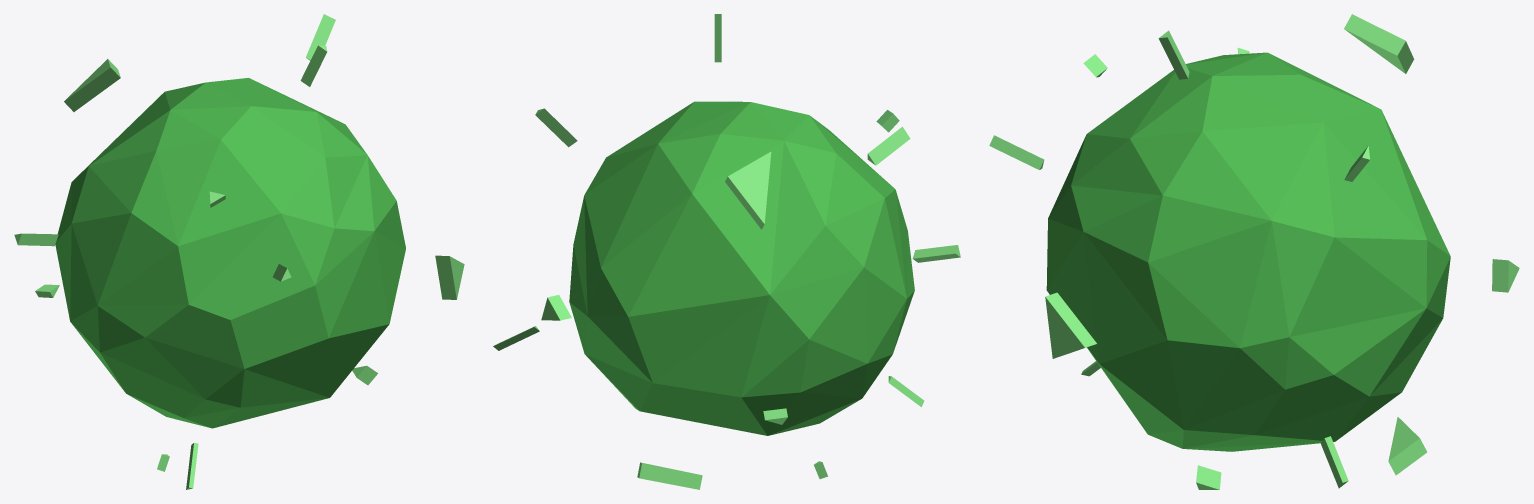
The model's file is Planet_02_a.fbx.
3 views of the same model, side by side, from view 1: azimuth 30°, elevation 25°; view 2: azimuth 150°, elevation 25°; view 3: azimuth 270°, elevation 25° (orthographic). The views are drawn at different scales.
Parts seen in each view (by area): view 1: Planet_02; view 2: Planet_02; view 3: Planet_02.
Boxes of the visible parts, x1,y1,x2,y2 form: Planet_02: [14, 14, 464, 489]; Planet_02: [493, 14, 960, 489]; Planet_02: [989, 14, 1519, 489].
Bounding box in the file's own units: 98.85 × 92.49 × 92.41.
